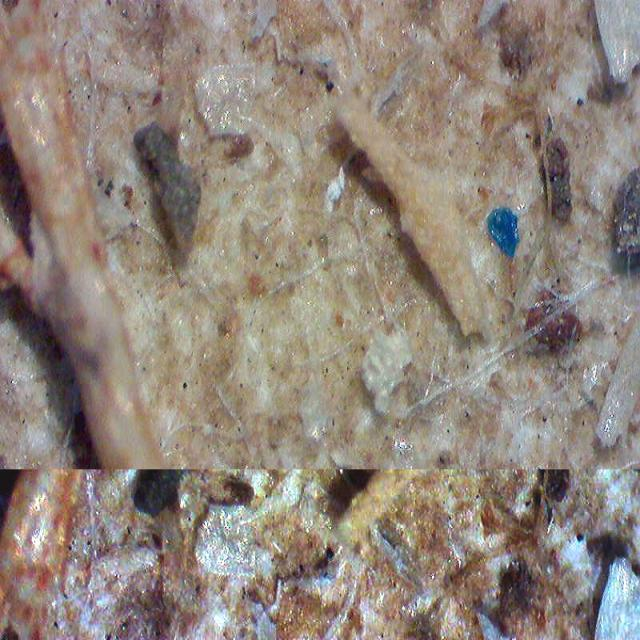microplastic: (487, 204, 522, 258)
